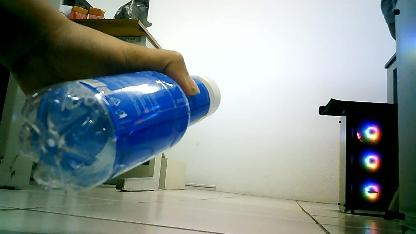Plastic Bottle: (7, 61, 233, 207)
